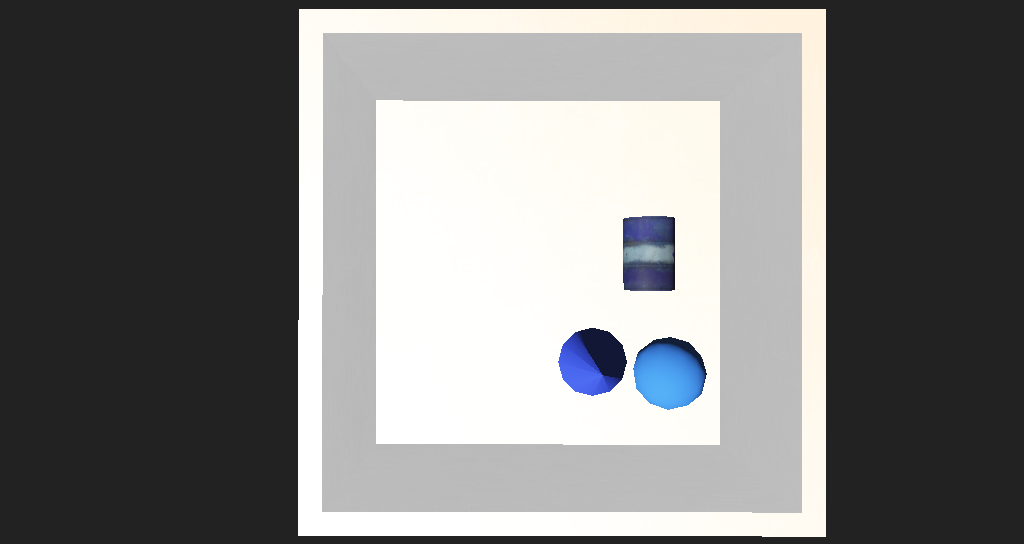cone: (566, 236, 620, 279)
cylinder: (522, 305, 583, 353)
sphere: (583, 305, 643, 353)
